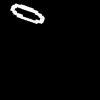chain: (11, 4, 43, 23)
